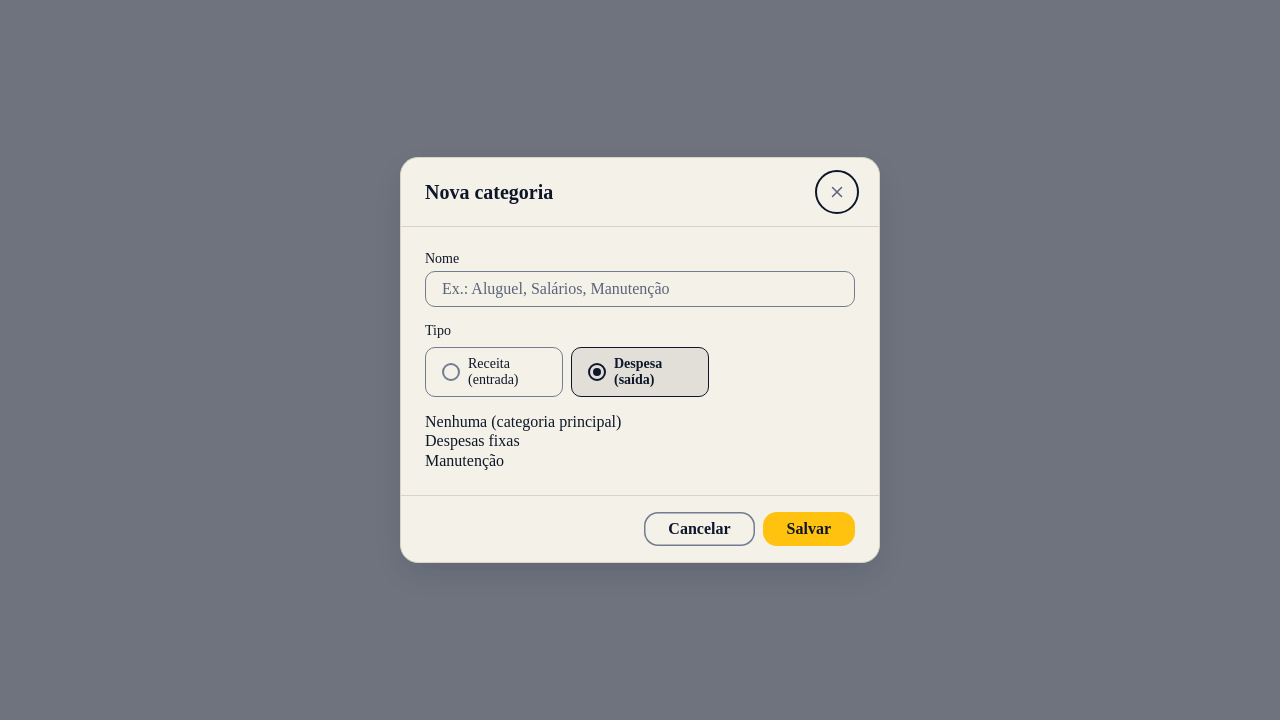
Test: CategoriaModal: cadastro › outro erro do servidor aparece no aviso do topo
Type "Seguros" into the field labelled "Nome".
click(640, 289); type("Seguros")  # box [425,271,855,307]
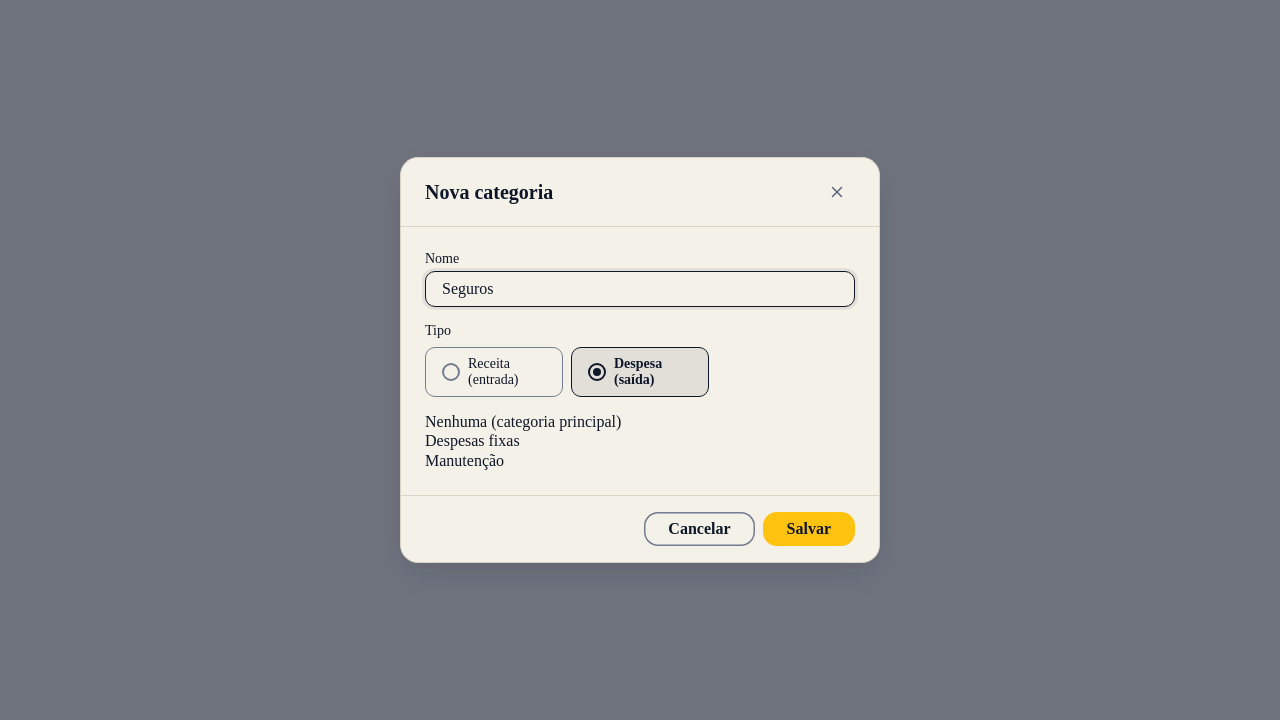
Click the button "Salvar".
click(809, 529)  # box [762,512,855,546]
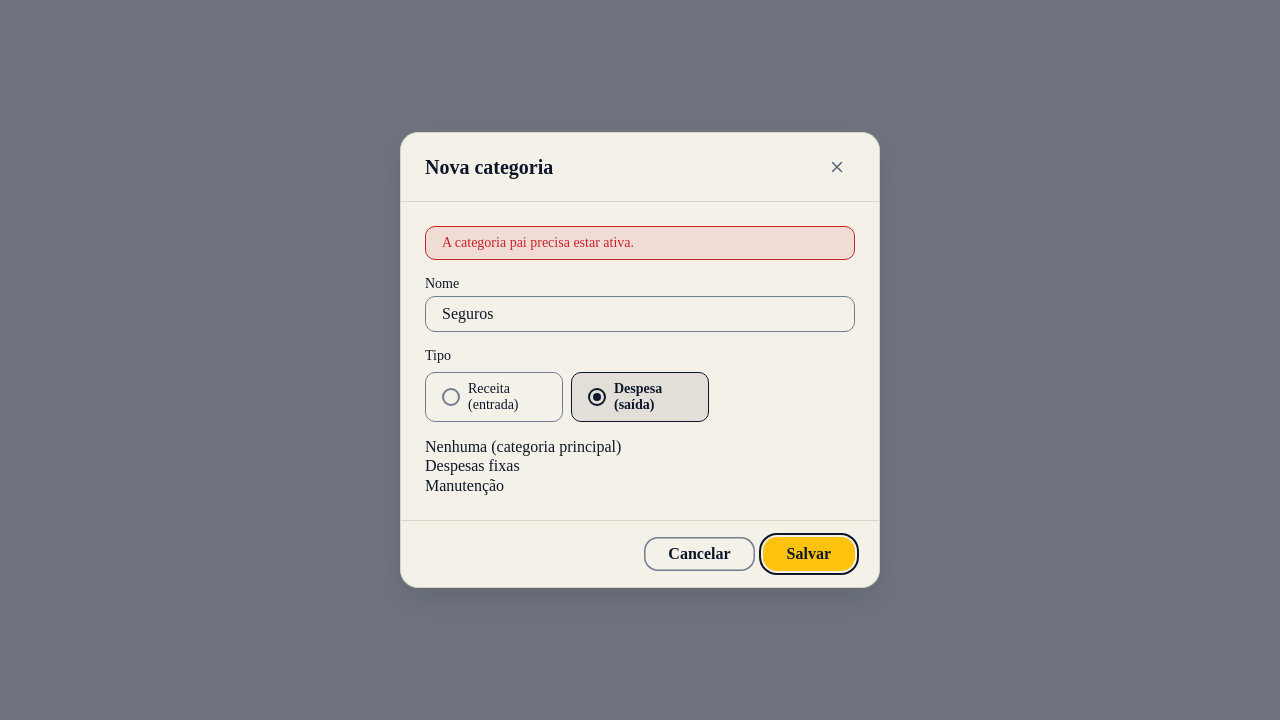
Now the message reads "A categoria pai precisa estar ativa.", box [442,235,634,250]
